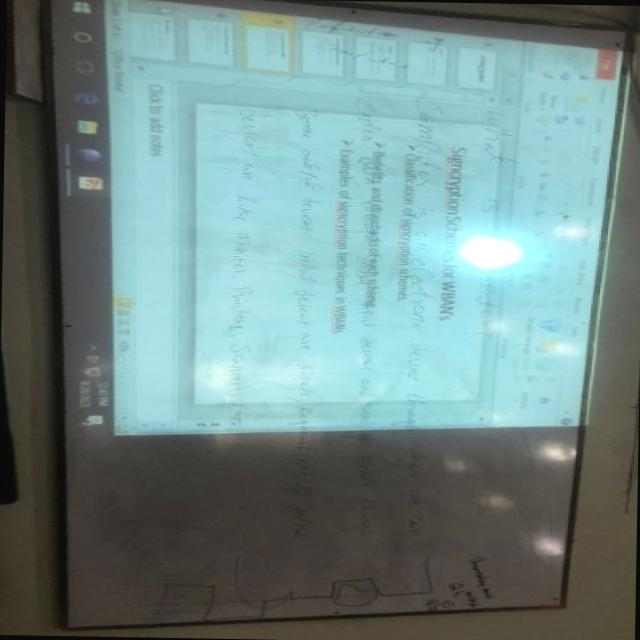Slide: (68, 0, 629, 438)
White-board: (47, 0, 625, 629)
